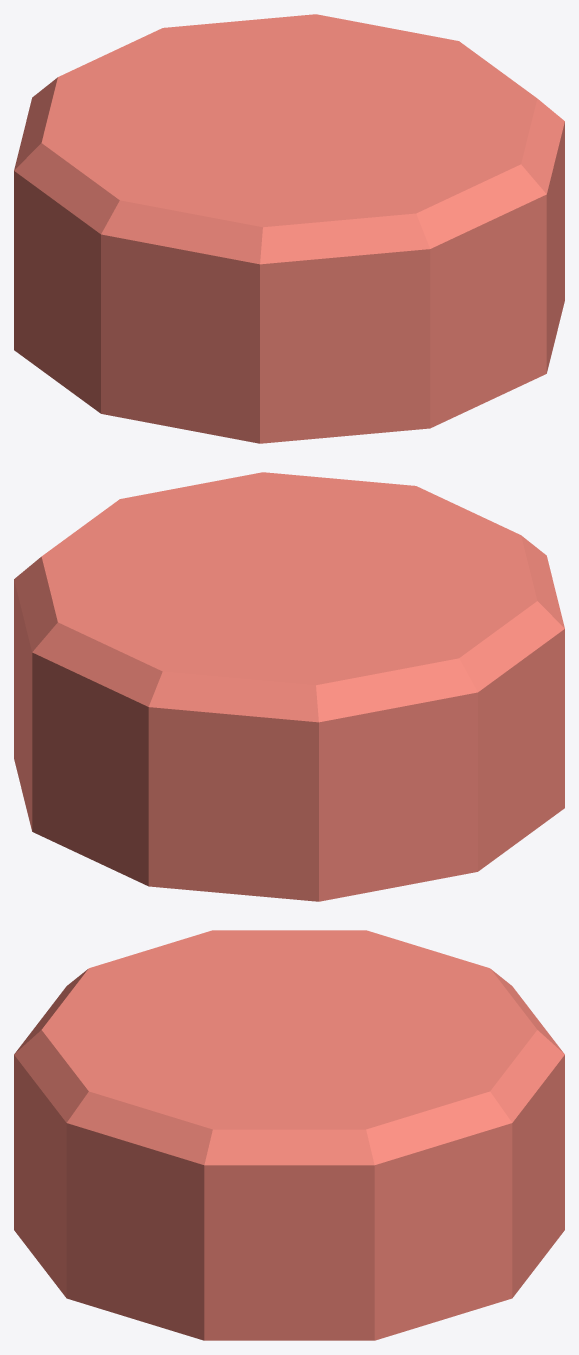
File: ButtonTop.fbx
The picture shows the model from 3 angles, top to bottom: view 1: azimuth 30°, elevation 25°; view 2: azimuth 150°, elevation 25°; view 3: azimuth 270°, elevation 25°; orthographic projection. The views are drawn at different scales.
Visible parts, largest first — view 1: ButtonTop; view 2: ButtonTop; view 3: ButtonTop.
Part boxes in pixels (<box>): ButtonTop: <box>14,14,564,443</box>; ButtonTop: <box>14,472,564,901</box>; ButtonTop: <box>14,930,564,1340</box>.
Bounding box in the file's own units: 220 × 92.54 × 231.
